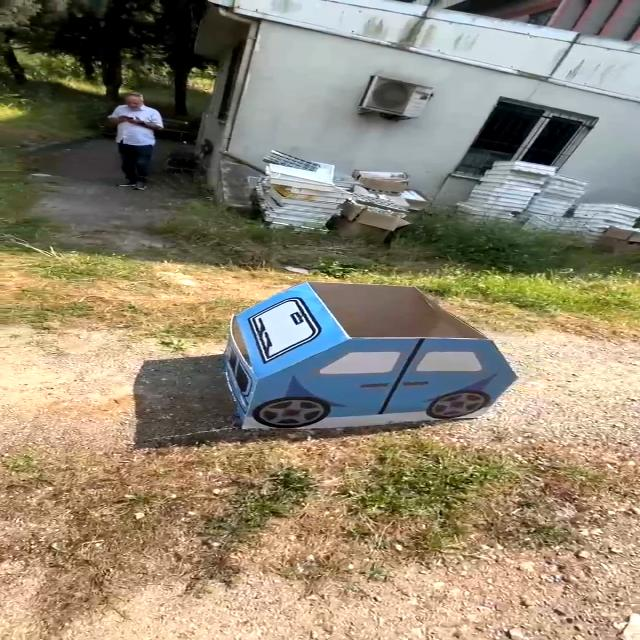blue_car: (192, 270, 523, 441)
